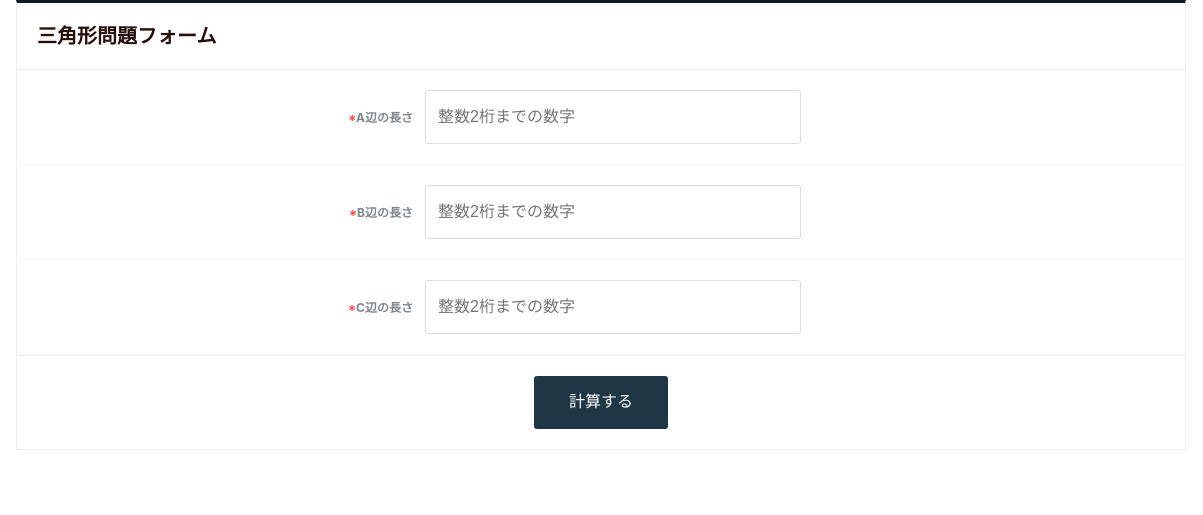
it: 判定条件不備あり › 99以上の数字が入力された場合、エラーメッセージが表示されること
Type "100" into the field with id "length_a".
click(613, 117); type("100")  # box [425,90,801,144]
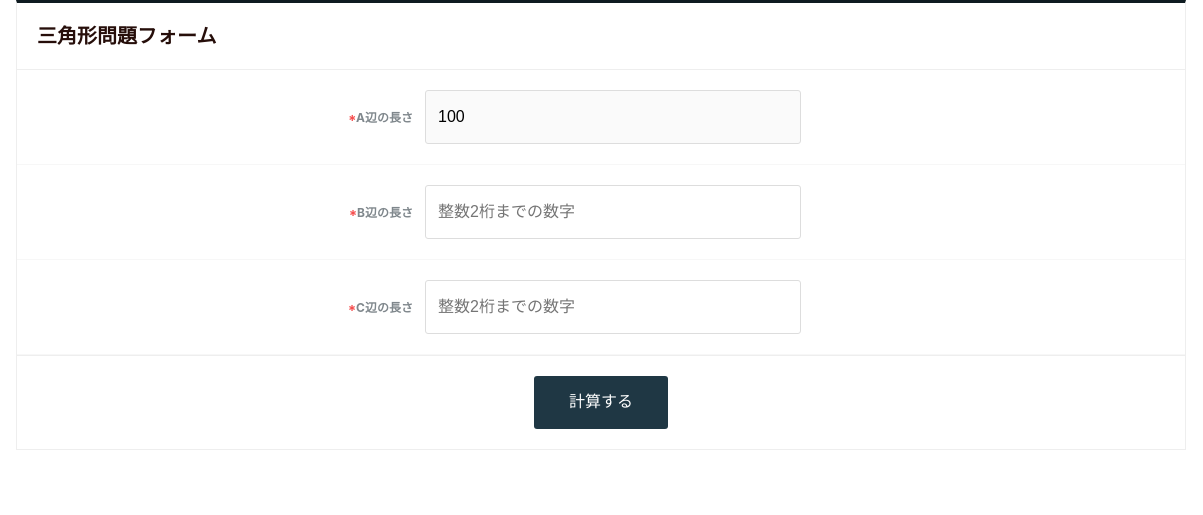
Type "100" into the field with id "length_b".
click(613, 212); type("100")  # box [425,185,801,239]
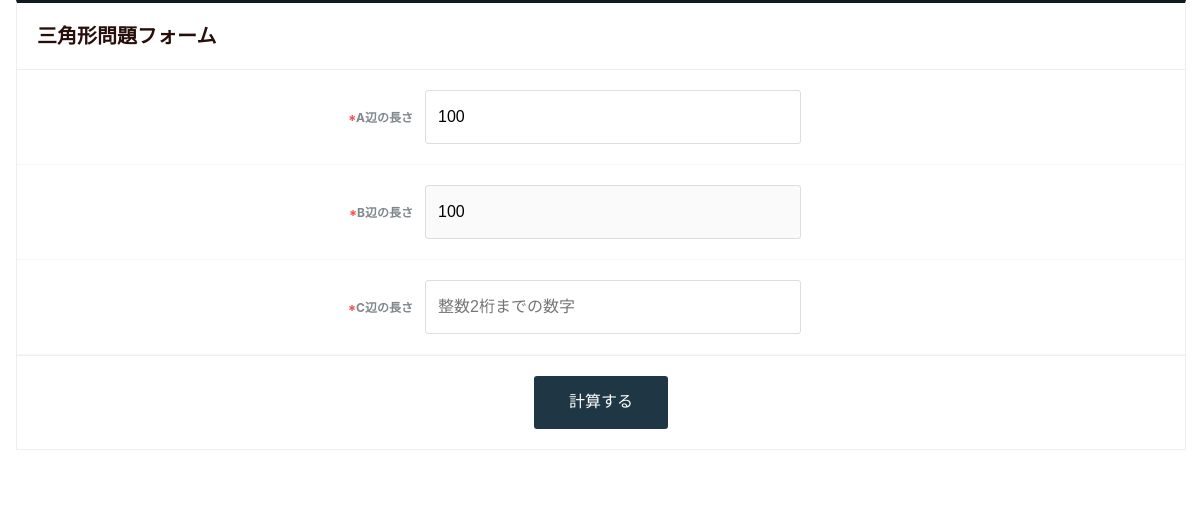
Type "100" into the field with id "length_c".
click(613, 307); type("100")  # box [425,280,801,334]
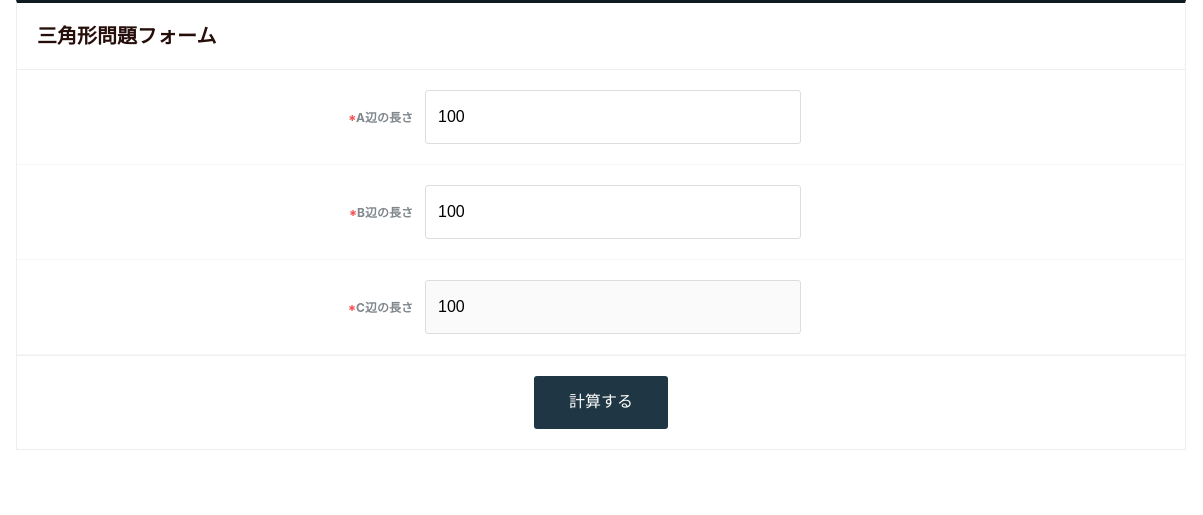
Submit the form
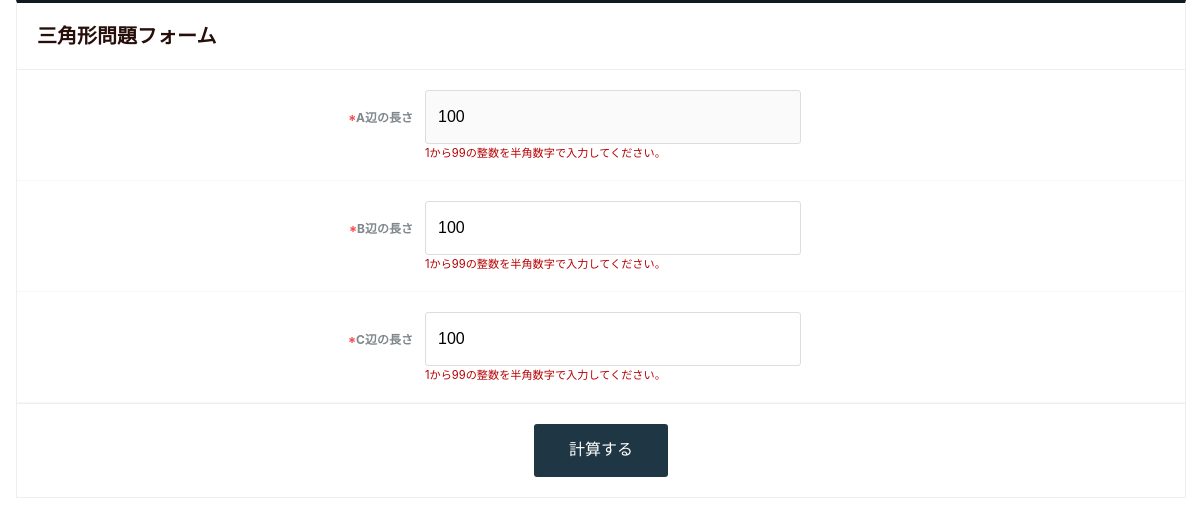
Expected: the text "1から99の整数を半角数字で入力してください。" below "A辺の長さ" is shown, [425,146,666,160]
Expected: the text "1から99の整数を半角数字で入力してください。" below "B辺の長さ" is shown, [425,257,666,271]
Expected: the text "1から99の整数を半角数字で入力してください。" below "C辺の長さ" is shown, [425,368,666,382]
